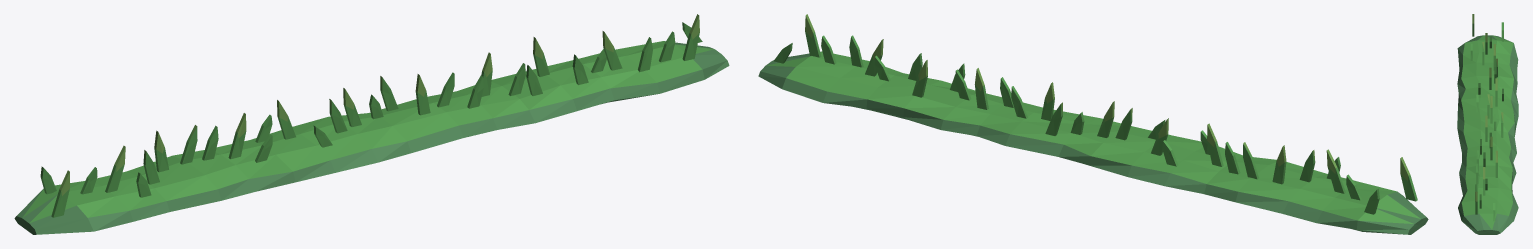
The model's file is ledge_z1_kelp_long.glb.
3 views of the same model, side by side, from view 1: azimuth 30°, elevation 25°; view 2: azimuth 150°, elevation 25°; view 3: azimuth 270°, elevation 25° (orthographic). The views are drawn at different scales.
Visible parts, largest first — view 1: ledge_z1_kelp_long; view 2: ledge_z1_kelp_long; view 3: ledge_z1_kelp_long.
Part boxes in pixels (x1,y1,x2,y2): ledge_z1_kelp_long: [14, 14, 729, 234]; ledge_z1_kelp_long: [758, 14, 1428, 234]; ledge_z1_kelp_long: [1457, 14, 1518, 234].
Size of the model in its own units: 12 by 1 by 1.6.
